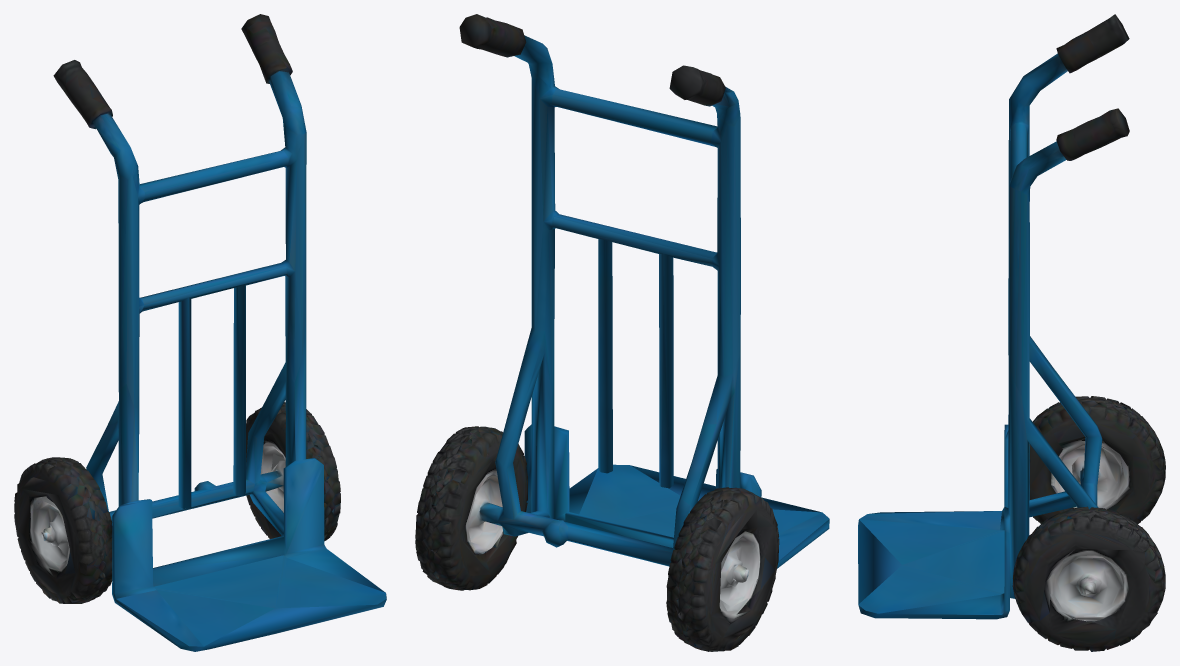
Rendered from hand_truck_a.glb.
3 views of the same model, side by side, from view 1: azimuth 30°, elevation 25°; view 2: azimuth 150°, elevation 25°; view 3: azimuth 270°, elevation 25° (orthographic). The views are drawn at different scales.
Parts seen in each view (by area): view 1: hand_truck_a; view 2: hand_truck_a; view 3: hand_truck_a.
Part boxes in pixels (x1=…): hand_truck_a: x1=14, y1=14, x2=386, y2=651; hand_truck_a: x1=415, y1=14, x2=829, y2=651; hand_truck_a: x1=858, y1=14, x2=1165, y2=651.
Size of what is drawn, in the model's own units: 0.6418 by 1.2 by 0.6327.
1 material, 1 textured.
